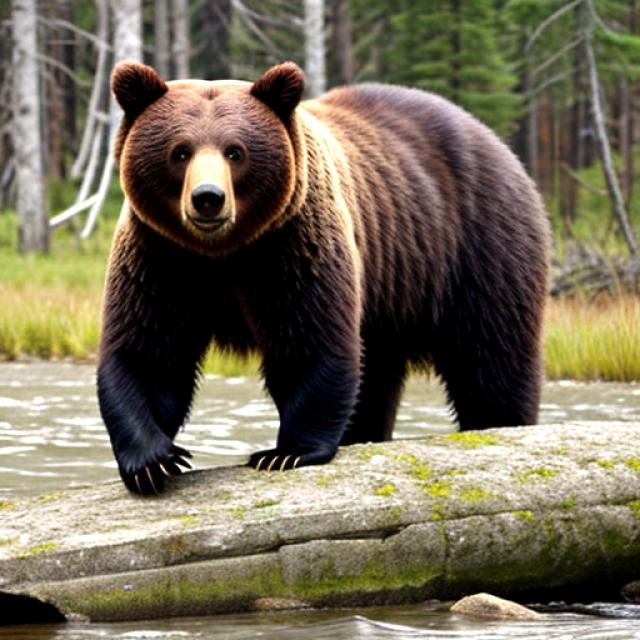bear: (93, 47, 588, 521)
